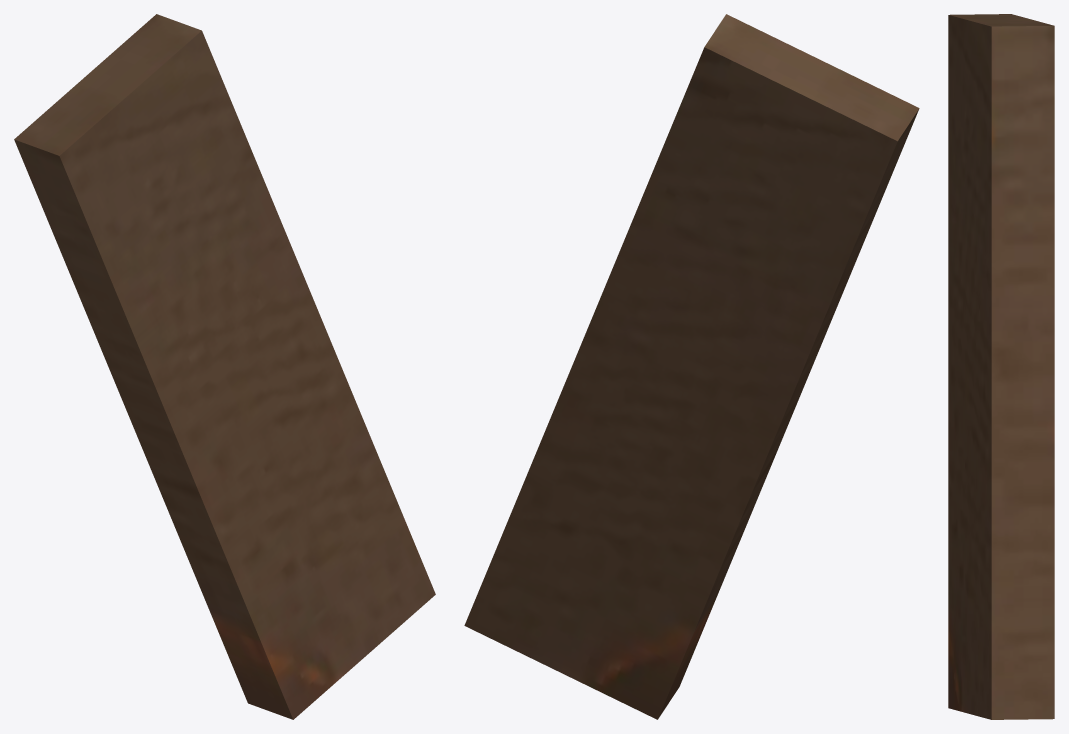
Rendered from fan_center__blade_2.glb.
The picture shows the model from 3 angles, left to right: view 1: azimuth 30°, elevation 25°; view 2: azimuth 150°, elevation 25°; view 3: azimuth 270°, elevation 25°; orthographic projection. The views are drawn at different scales.
Visible parts, largest first — view 1: geometry_0; view 2: geometry_0; view 3: geometry_0.
Boxes of the visible parts, x1,y1,x2,y2 form: geometry_0: (14,14,435,719); geometry_0: (464,14,919,719); geometry_0: (948,14,1054,719).
Size of the model in its own units: 0.0181 by 0.0291 by 0.00428.
Materials: 1 (1 with a texture image).
